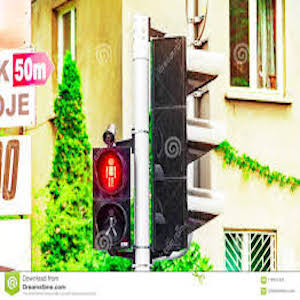red: (100, 155, 121, 190)
